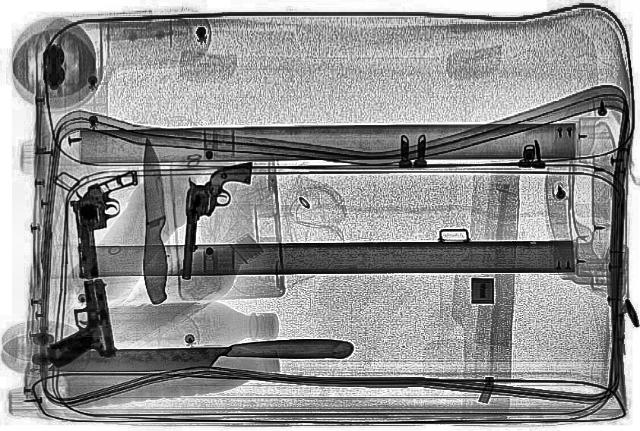Gun: (64, 169, 142, 279), (179, 161, 251, 279), (31, 278, 118, 368)
Knife: (47, 336, 355, 374), (132, 136, 170, 304)
